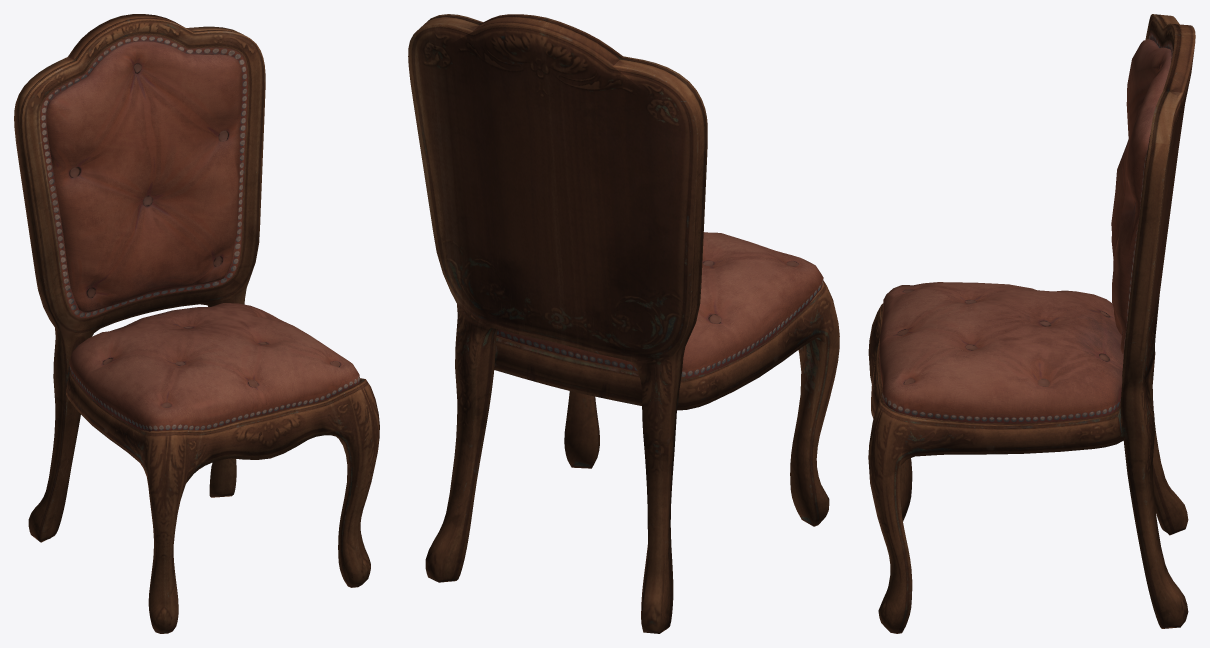
Rendered from Ornate_Chair.fbx.
3 renders of one model, left to right at view 1: azimuth 30°, elevation 25°; view 2: azimuth 150°, elevation 25°; view 3: azimuth 270°, elevation 25°, orthographic. The views are drawn at different scales.
Visible parts, largest first — view 1: Chair; view 2: Chair; view 3: Chair.
Boxes of the visible parts, box(x1,y1,x2,y2) form: Chair: box(14, 14, 379, 633); Chair: box(408, 14, 839, 633); Chair: box(868, 14, 1195, 633).
Bounding box in the file's own units: 0.7786 × 0.8291 × 1.52.
1 material, 1 textured.
